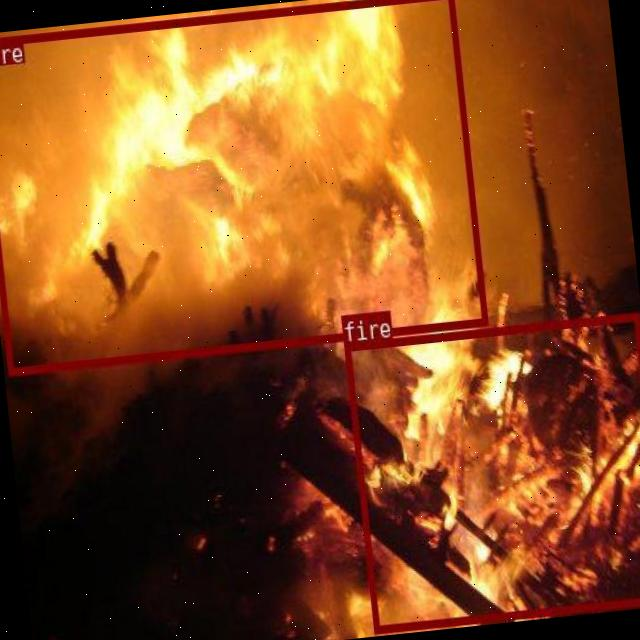fire: (0, 0, 486, 372), (342, 312, 640, 631)
